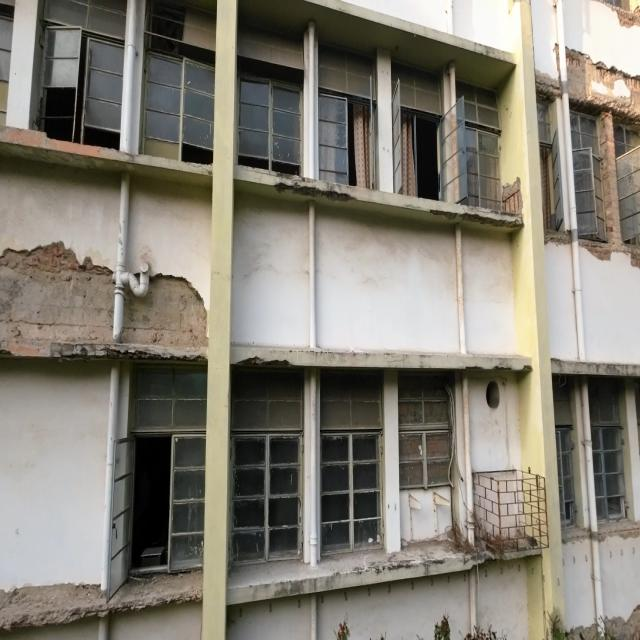spalling: (0, 242, 114, 356), (124, 276, 207, 363), (124, 276, 207, 362), (566, 48, 640, 135), (599, 113, 621, 249), (536, 71, 559, 101)
